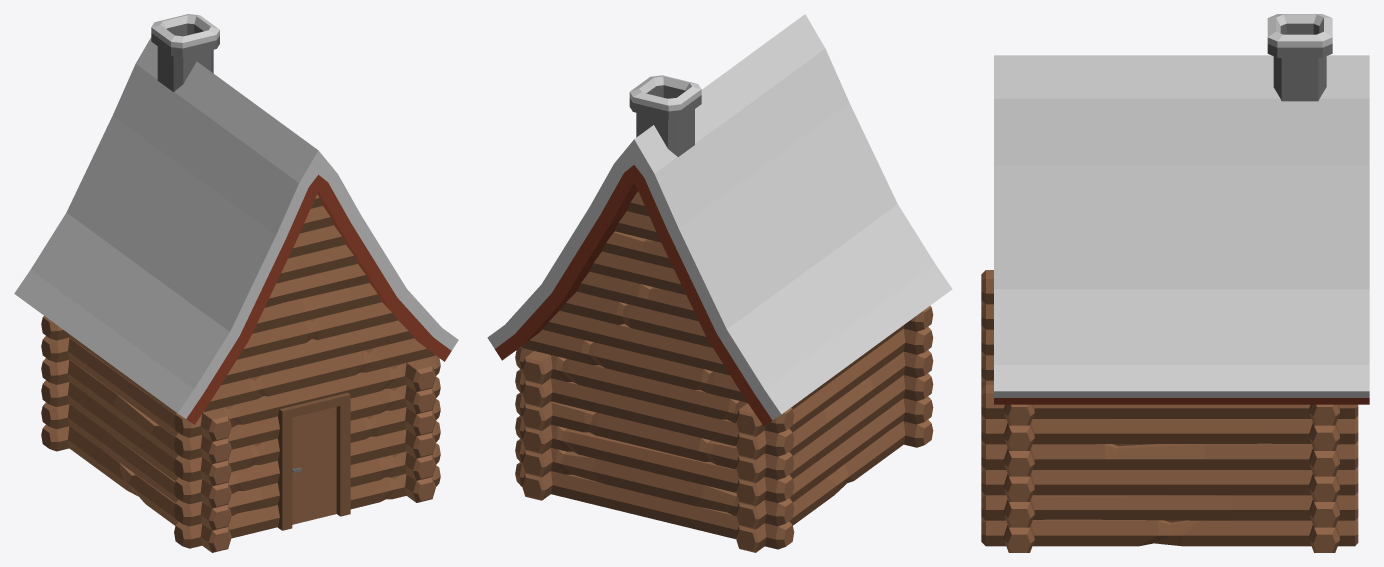
Rendered from Cabin.fbx.
3 views of the same model, side by side, from view 1: azimuth 30°, elevation 25°; view 2: azimuth 150°, elevation 25°; view 3: azimuth 270°, elevation 25° (orthographic). The views are drawn at different scales.
Visible parts, largest first — view 1: Cabin; view 2: Cabin; view 3: Cabin.
Boxes of the visible parts, box(x1,y1,x2,y2) form: Cabin: box(14, 14, 458, 552); Cabin: box(487, 14, 952, 552); Cabin: box(981, 14, 1369, 552).
Size of the model in its own units: 1112 by 1514 by 1158.
